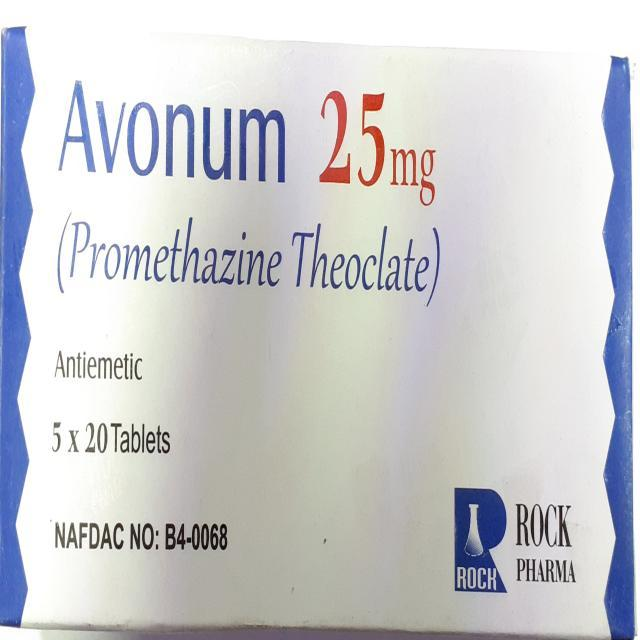drug-name: (54, 81, 287, 188)
